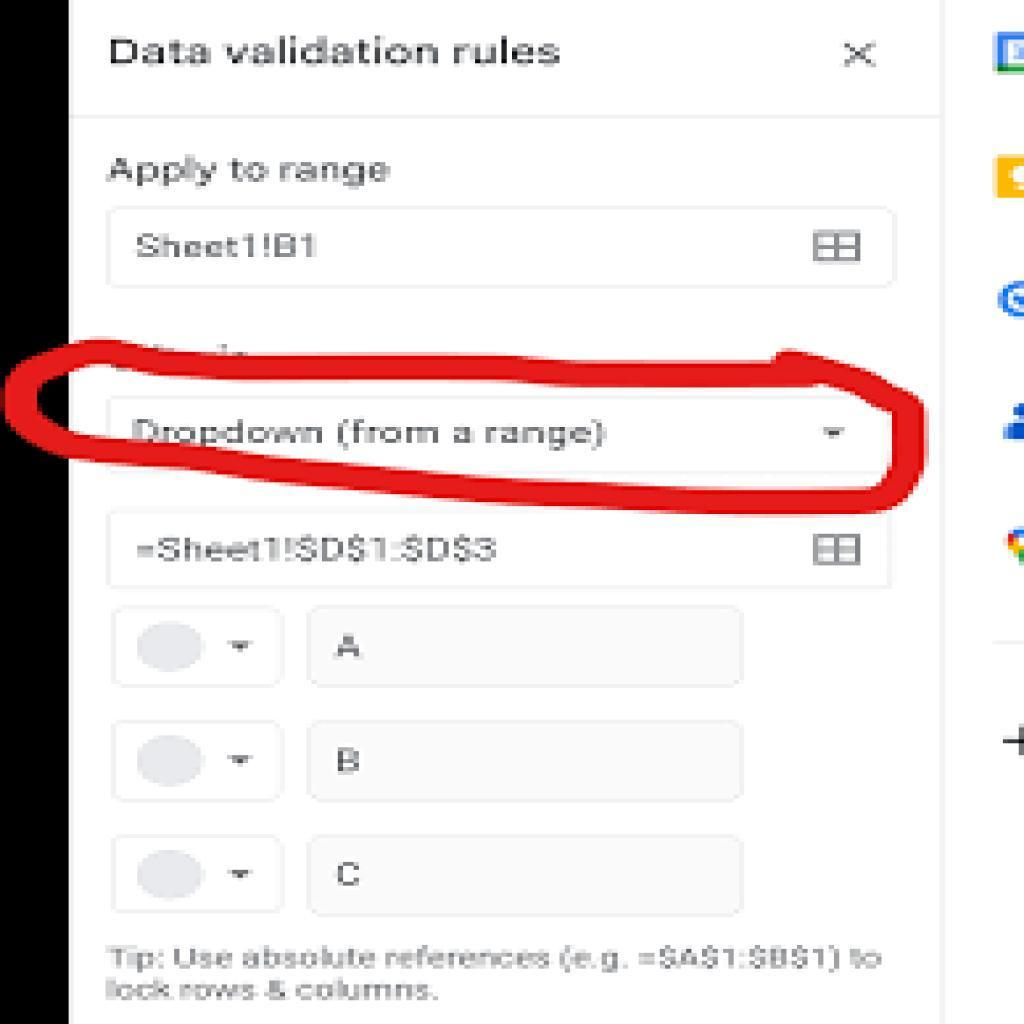dropdown: (112, 397, 879, 463), (113, 715, 288, 804), (113, 836, 285, 918), (115, 610, 288, 688)
icon: (807, 528, 868, 573), (810, 222, 868, 268), (838, 41, 882, 77)
input: (110, 204, 893, 286), (310, 721, 743, 804), (310, 612, 741, 692), (310, 837, 744, 916)
